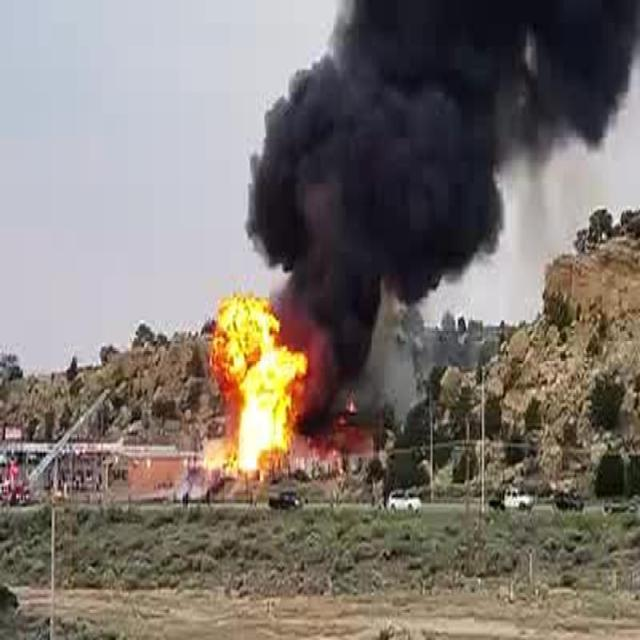Fire: (208, 293, 308, 474)
Smoke: (245, 58, 506, 291), (335, 0, 640, 171), (308, 288, 378, 431), (378, 295, 413, 431)
